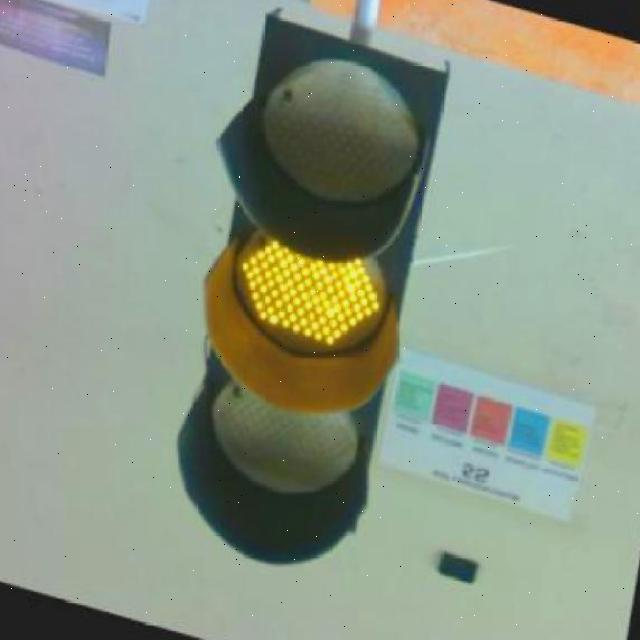Lampu Kuning: (193, 20, 444, 572)
